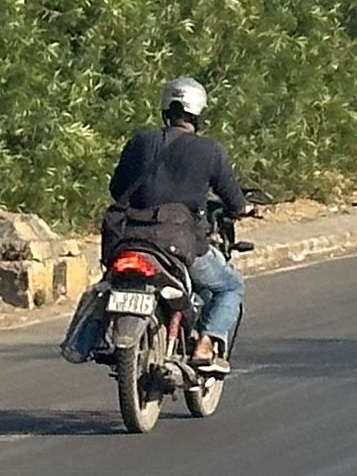BikeWithRider: (58, 74, 278, 434)
Helmet: (158, 73, 211, 133)
